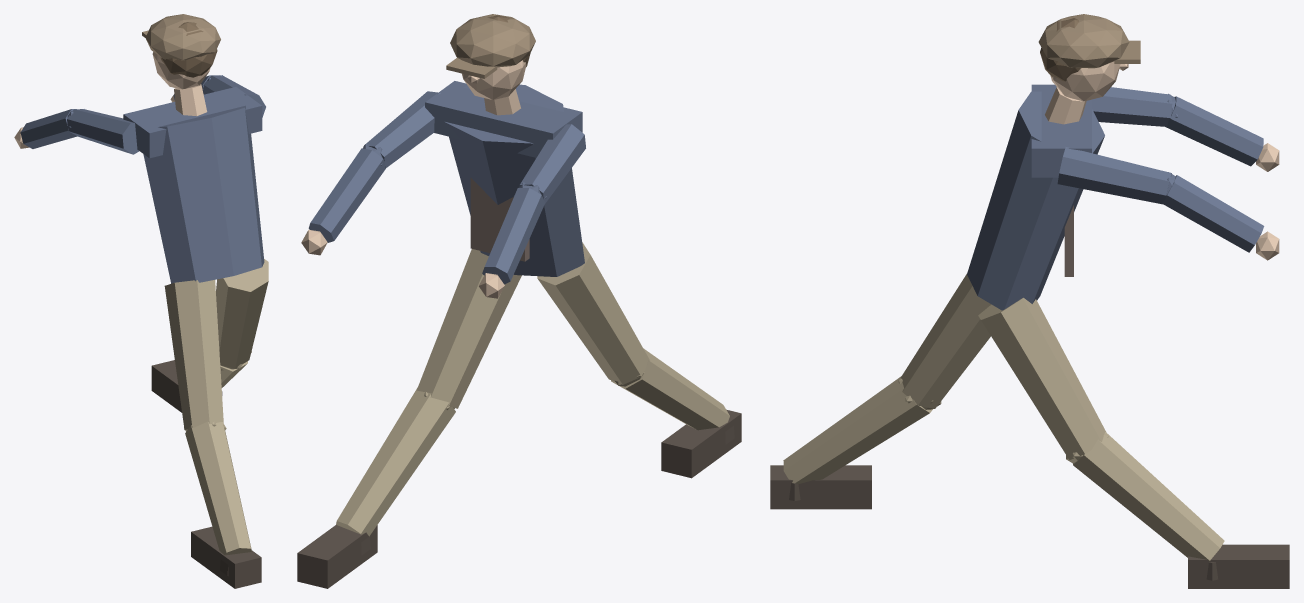
Rendered from townsman_pulling_gate.glb.
3 renders of one model, left to right at view 1: azimuth 30°, elevation 25°; view 2: azimuth 150°, elevation 25°; view 3: azimuth 270°, elevation 25°, orthographic. The views are drawn at different scales.
Parts seen in each view (by area): view 1: wool_navy, moleskin, boot, tweed_brown, skin, hair; view 2: wool_navy, moleskin, boot, tweed_brown, skin, waistcoat; view 3: wool_navy, moleskin, boot, tweed_brown, skin, hair.
Part boxes in pixels (left/top/right/bottom): wool_navy: left=20, top=75, right=265, bottom=283; moleskin: left=164, top=259, right=268, bottom=555; boot: left=151, top=360, right=261, bottom=588; tweed_brown: left=142, top=14, right=220, bottom=60; skin: left=14, top=52, right=210, bottom=148; hair: left=160, top=22, right=217, bottom=77; wool_navy: left=308, top=81, right=585, bottom=284; moleskin: left=336, top=242, right=729, bottom=536; boot: left=297, top=409, right=741, bottom=588; tweed_brown: left=446, top=14, right=535, bottom=78; skin: left=301, top=60, right=526, bottom=298; waistcoat: left=470, top=177, right=529, bottom=261; wool_navy: left=967, top=84, right=1264, bottom=310; moleskin: left=783, top=274, right=1224, bottom=561; boot: left=770, top=465, right=1289, bottom=588; tweed_brown: left=1038, top=14, right=1140, bottom=68; skin: left=1045, top=61, right=1279, bottom=260; hair: left=1040, top=18, right=1081, bottom=81.
Size of the model in its own units: 0.6266 by 1.53 by 1.38.
